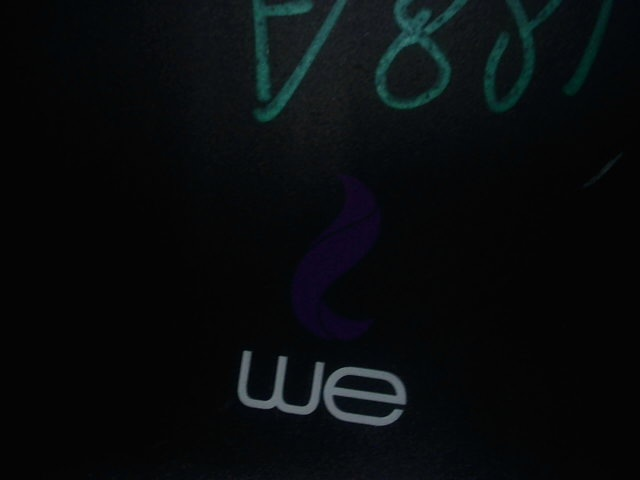AT_We: (232, 172, 411, 426)
